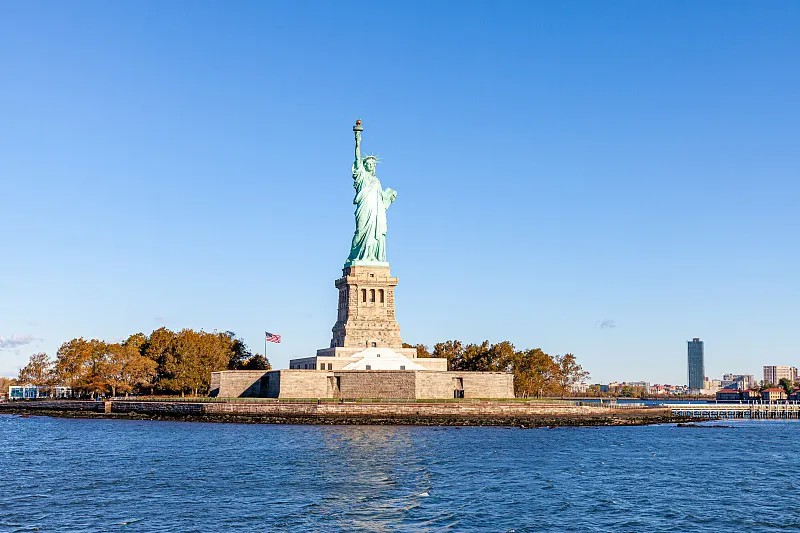SL: (330, 119, 402, 348)
